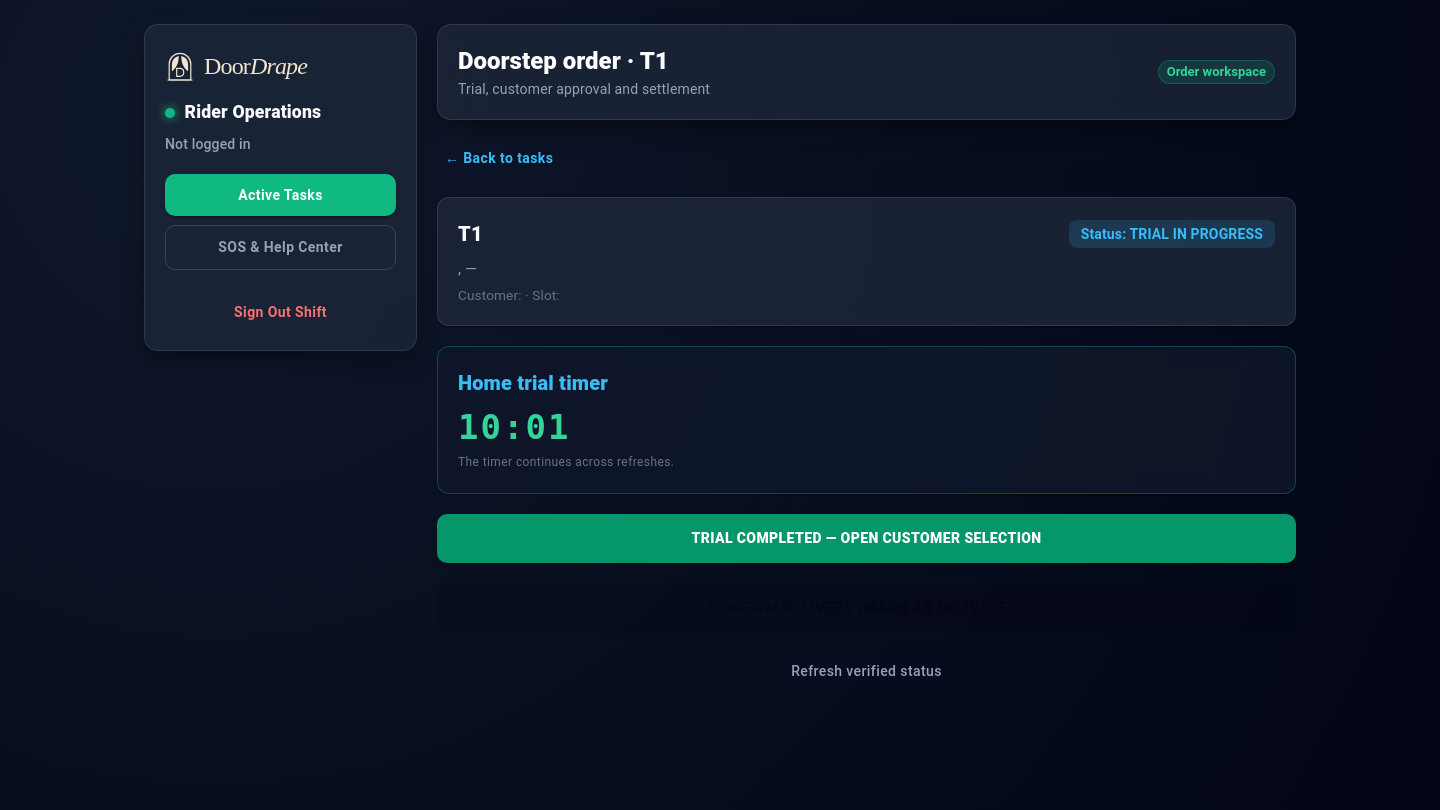
Test: selection opens only after trial completed is saved
The width and height of the screenshot is (1440, 810).
Click the button "Trial Completed — Open Customer Selection": (866, 538) [437, 514, 1296, 562]
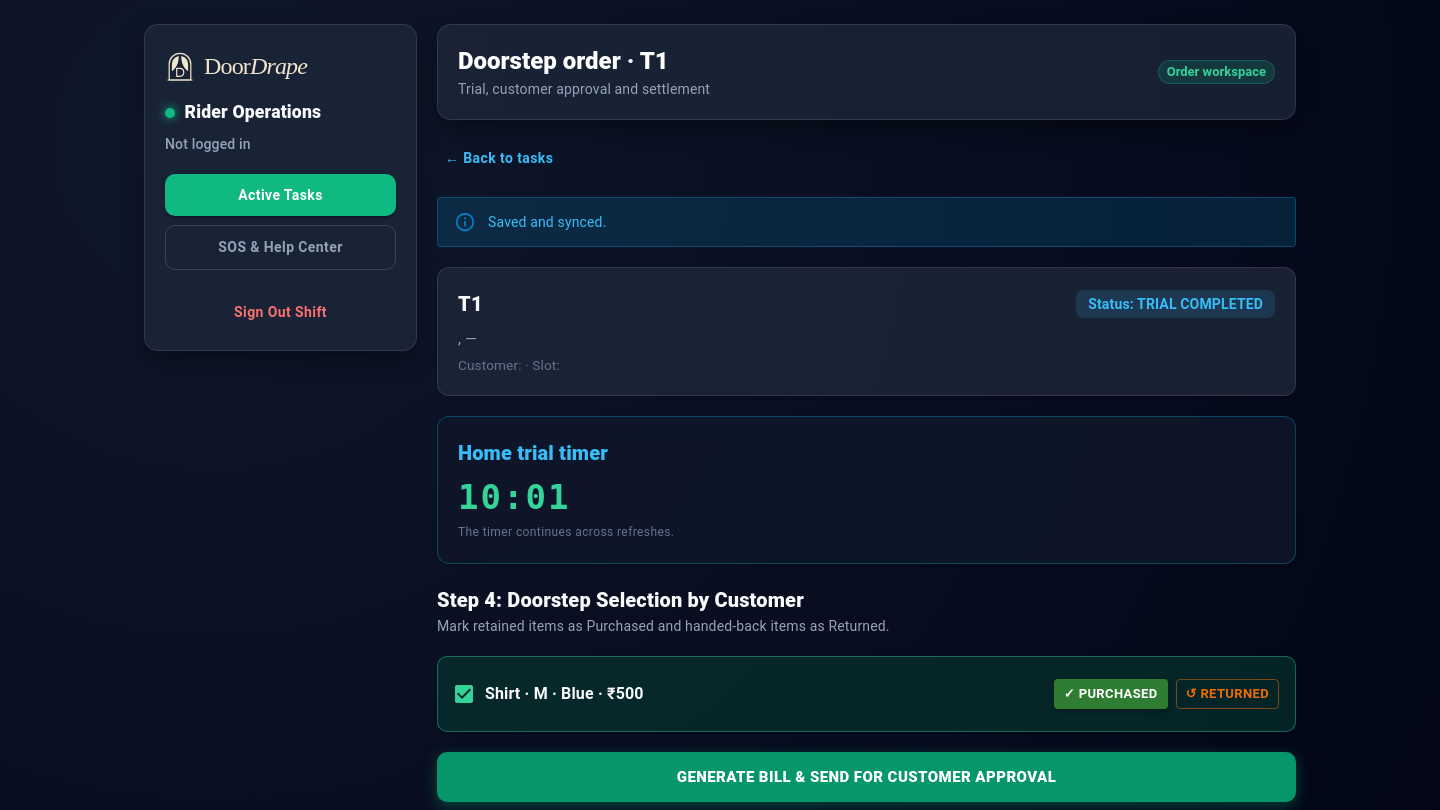
Now the checkbox is enabled, box [452, 682, 644, 706]
Now the button with aria-label "Send Selection for Customer Approval" is enabled, box [437, 752, 1296, 802]
